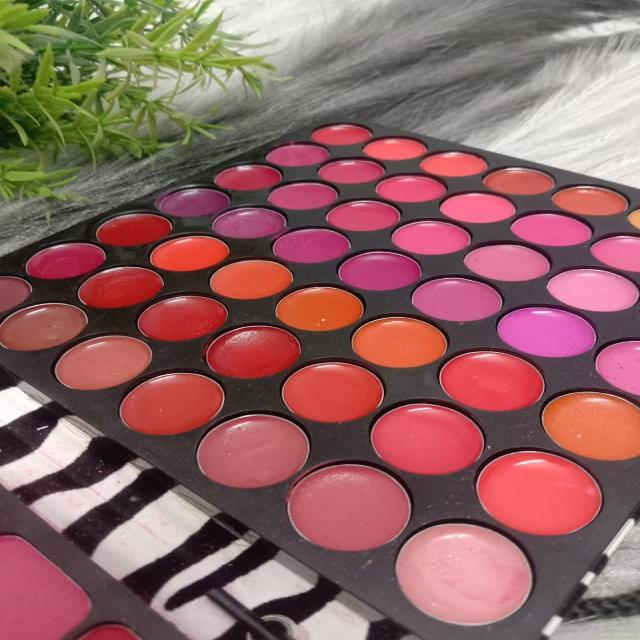lip shade: (355, 129, 637, 591), (8, 179, 270, 413), (268, 122, 347, 536)
